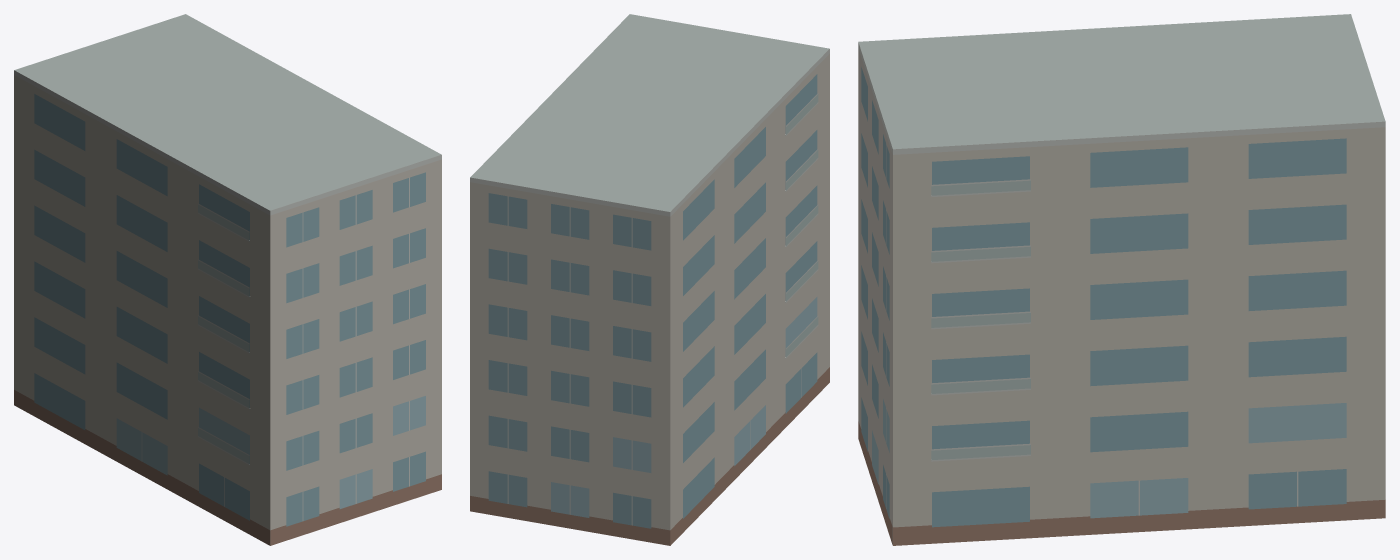
Rendered from survey-upis-32530782.glb.
3 renders of one model, left to right at view 1: azimuth 30°, elevation 25°; view 2: azimuth 150°, elevation 25°; view 3: azimuth 270°, elevation 25°, orthographic. The views are drawn at different scales.
Parts seen in each view (by area): view 1: survey-upis-32530782.tmp; view 2: survey-upis-32530782.tmp; view 3: survey-upis-32530782.tmp.
Boxes of the visible parts, left/top/right/bottom form: survey-upis-32530782.tmp: left=14, top=14, right=441, bottom=545; survey-upis-32530782.tmp: left=470, top=14, right=829, bottom=545; survey-upis-32530782.tmp: left=858, top=14, right=1385, bottom=545.
Bounding box in the file's own units: 12.59 × 17.2 × 20.74.
